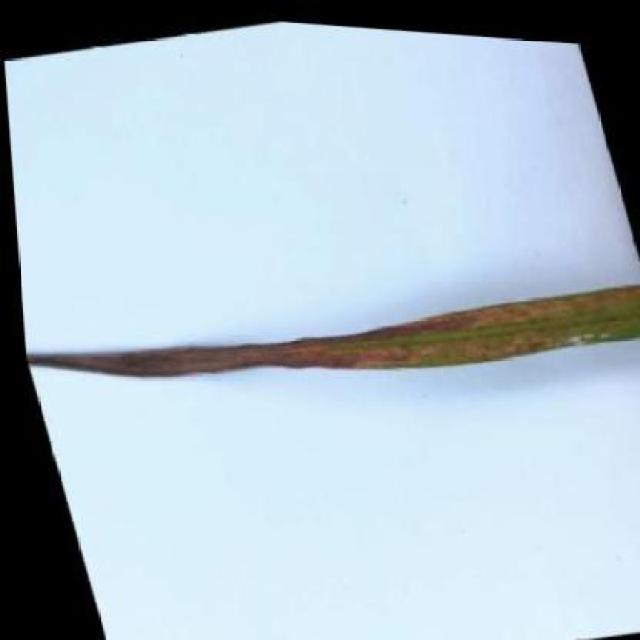Rice False Smut: (15, 222, 640, 468)
